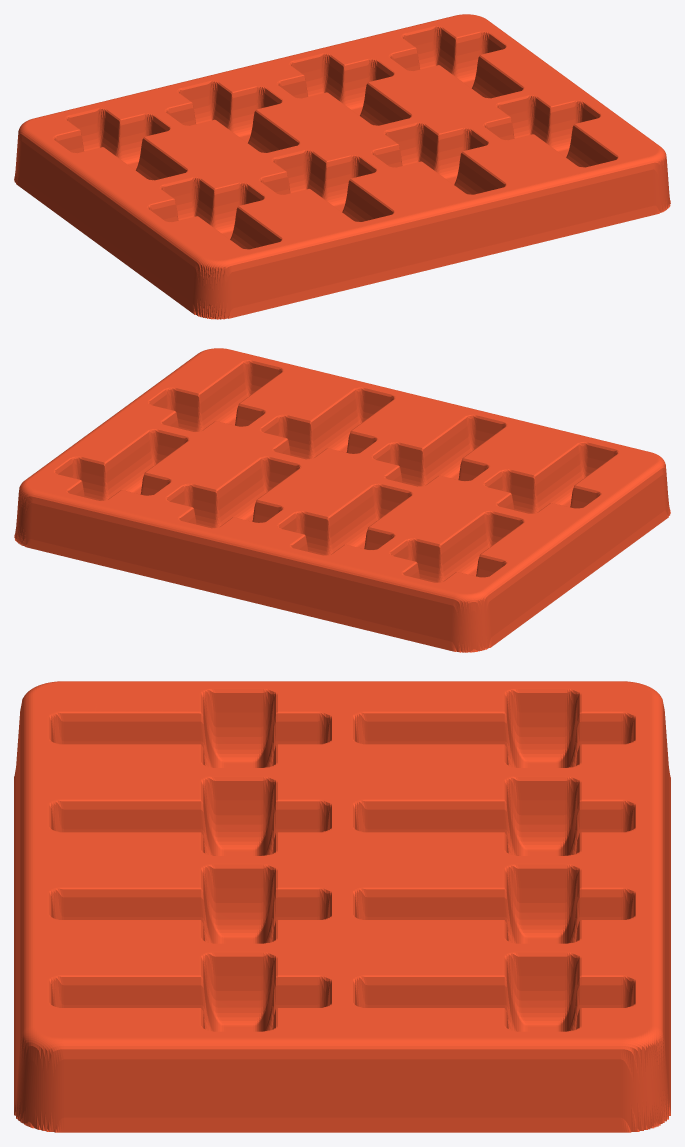
The model's file is mold.glb.
The picture shows the model from 3 angles, top to bottom: view 1: azimuth 30°, elevation 25°; view 2: azimuth 150°, elevation 25°; view 3: azimuth 270°, elevation 25°; orthographic projection. The views are drawn at different scales.
Visible parts, largest first — view 1: geometry_0; view 2: geometry_0; view 3: geometry_0.
Boxes of the visible parts, <box> form: geometry_0: <box>14,14,670,319</box>; geometry_0: <box>14,348,670,652</box>; geometry_0: <box>14,681,670,1132</box>.
Bounding box in the file's own units: 0.1622 × 0.0175 × 0.1209.
